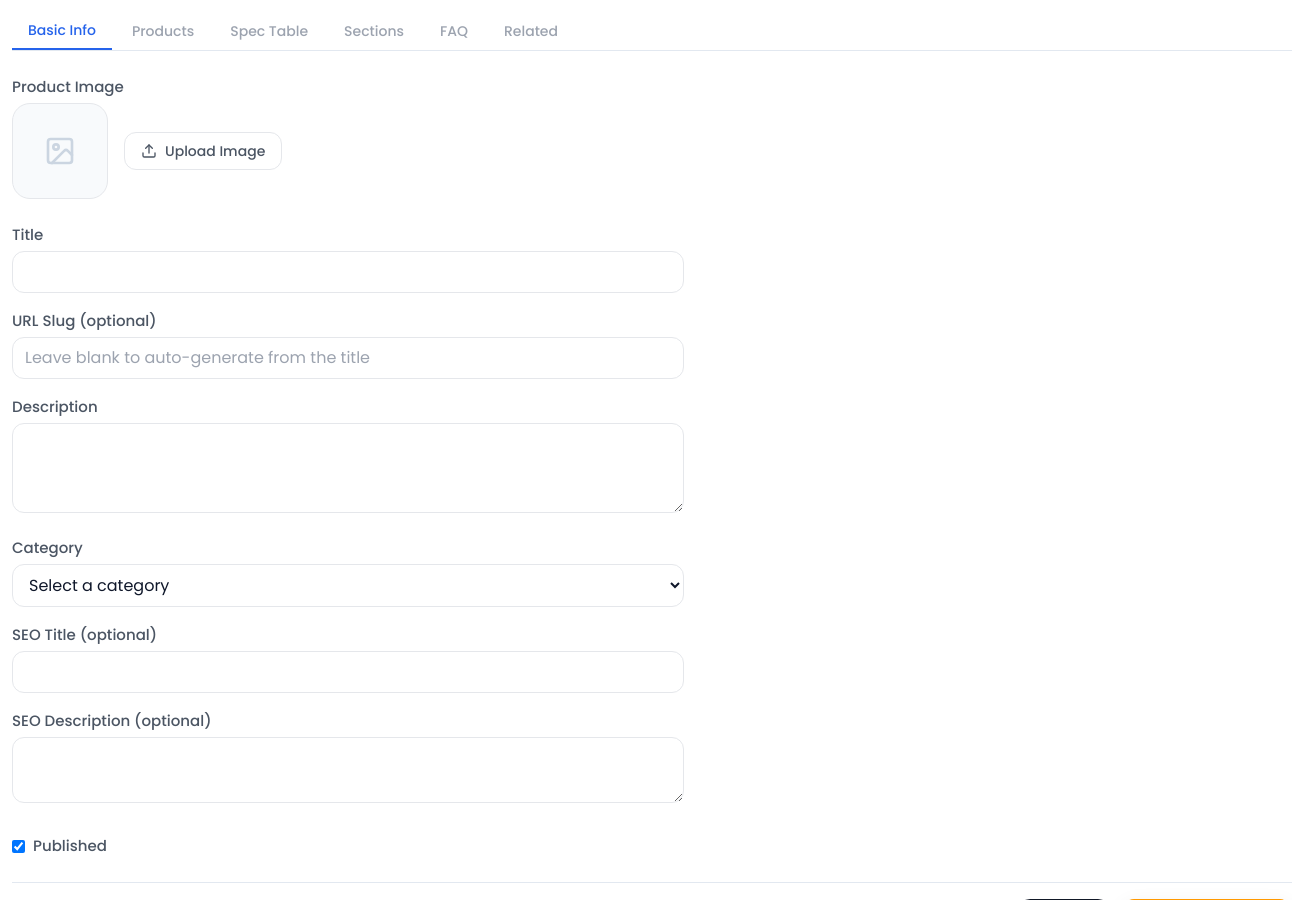
Test: ComparisonForm › switches to the Products tab and shows the product search
Click the button "Products": {"x": 163, "y": 31} [116,12,210,50]
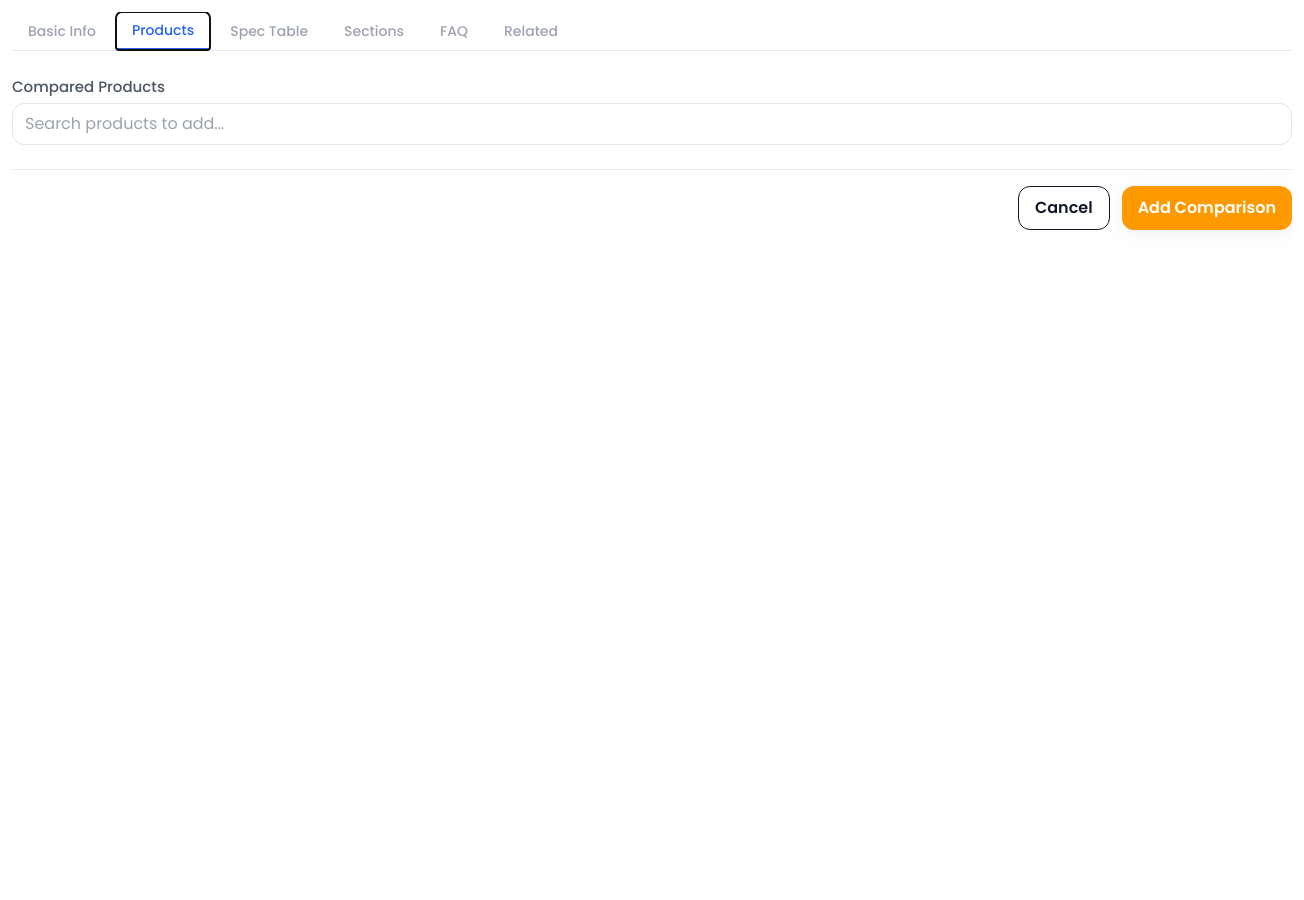
expect the field labelled "Compared Products" is shown: met, box [12,103,1292,145]
